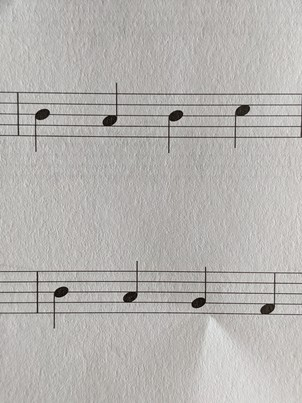A: (98, 78, 124, 145), (116, 258, 141, 322)
B: (163, 90, 186, 165), (28, 88, 53, 155), (49, 269, 72, 334)
F: (254, 266, 280, 322)
G: (188, 263, 211, 326)
HC: (229, 88, 254, 157)
